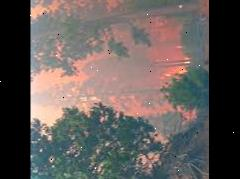fire: (160, 49, 196, 92)
